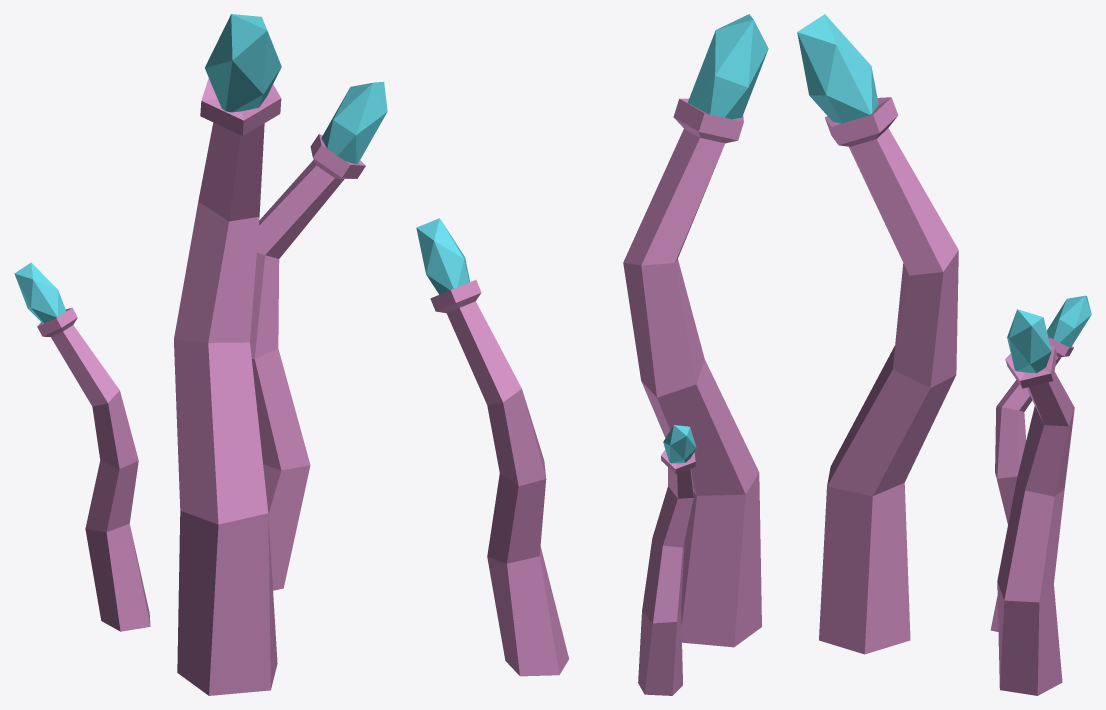
The model's file is Mushroom_Grass_03.fbx.
3 views of the same model, side by side, from view 1: azimuth 30°, elevation 25°; view 2: azimuth 150°, elevation 25°; view 3: azimuth 270°, elevation 25° (orthographic). The views are drawn at different scales.
Visible parts, largest first — view 1: Vege_Grass_03; view 2: Vege_Grass_03; view 3: Vege_Grass_03.
Boxes of the visible parts, x1,y1,x2,y2 form: Vege_Grass_03: (14, 14, 387, 695); Vege_Grass_03: (416, 14, 768, 695); Vege_Grass_03: (797, 14, 1091, 695).
Size of the model in its own units: 50.39 by 97.2 by 42.44.
